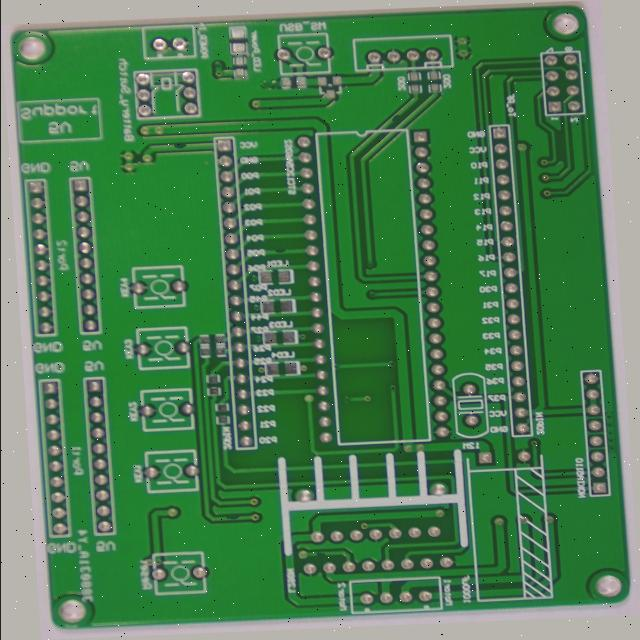mouse_bite: (170, 126, 193, 140), (203, 515, 222, 528), (297, 556, 313, 570), (273, 240, 289, 253), (407, 106, 420, 120)
